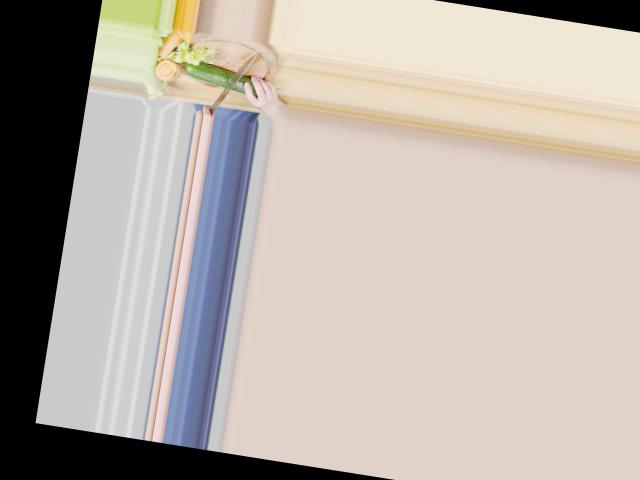cucumber: (180, 60, 260, 95)
